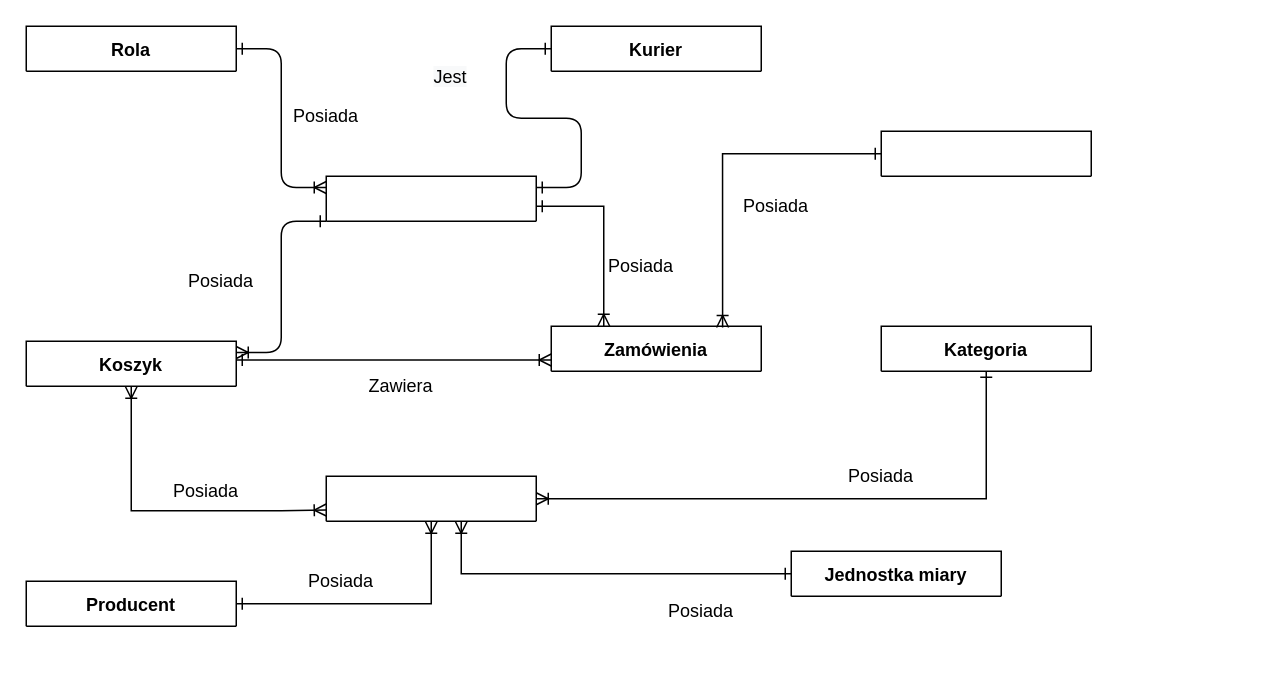
The diagram is 1283 pixels wide and 698 high, and some of its shapes have lost their labels. Here are the shapes that lost their labels. From the top down, the centre of each, then its label:
At (x=985, y=153): "Status".
At (x=430, y=198): "Użytkownik".
At (x=430, y=498): "Produkt".
